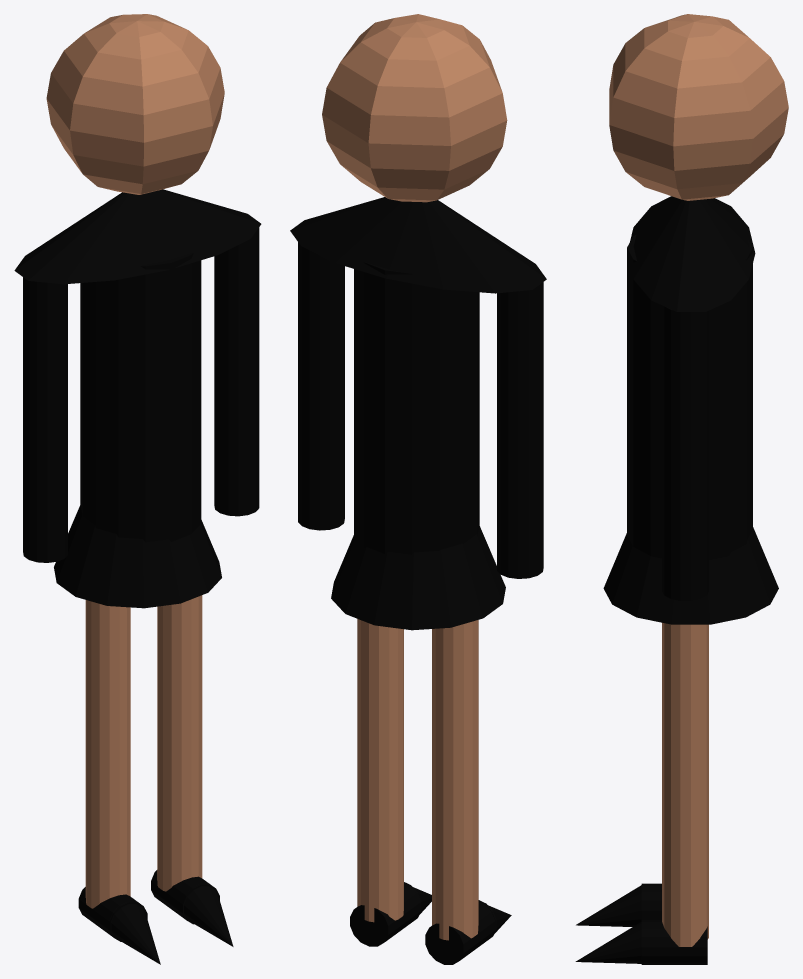
File: sister.glb
3 views of the same model, side by side, from view 1: azimuth 30°, elevation 25°; view 2: azimuth 150°, elevation 25°; view 3: azimuth 270°, elevation 25° (orthographic). The views are drawn at different scales.
Visible parts, largest first — view 1: Cylinder, Sphere, Cone, Cylinder.001, Cylinder.002, Cylinder.004, Cylinder.003, Cone.001, Cone.003, Cone.002, Cylinder.006, Cylinder.005; view 2: Cylinder, Sphere, Cone, Cylinder.001, Cylinder.002, Cylinder.004, Cylinder.003, Cone.001, Cylinder.006, Cylinder.005; view 3: Sphere, Cylinder, Cylinder.002, Cylinder.003, Cone, Cone.001, Cylinder.005, Cone.002, Cone.003, Cylinder.006.
Boxes of the visible parts, x1,y1,x2,y2 form: Cylinder: (80, 253, 201, 542); Sphere: (46, 14, 224, 194); Cone: (14, 189, 261, 284); Cylinder.001: (85, 600, 130, 908); Cylinder.002: (157, 595, 202, 891); Cylinder.004: (23, 277, 67, 562); Cylinder.003: (214, 227, 259, 516); Cone.001: (54, 505, 221, 608); Cone.003: (109, 902, 160, 964); Cone.002: (184, 884, 233, 946); Cylinder.006: (78, 887, 147, 941); Cylinder.005: (151, 870, 219, 924); Cylinder: (354, 262, 479, 554); Sphere: (322, 14, 507, 202); Cone: (290, 197, 546, 293); Cylinder.001: (432, 620, 478, 940); Cylinder.002: (357, 619, 403, 922); Cylinder.004: (497, 282, 543, 578); Cylinder.003: (298, 242, 344, 530); Cone.001: (331, 525, 505, 630); Cylinder.006: (425, 900, 496, 964); Cylinder.005: (350, 882, 421, 946); Sphere: (609, 14, 788, 200); Cylinder: (627, 234, 752, 560); Cylinder.002: (662, 622, 708, 946); Cylinder.003: (662, 305, 708, 600); Cone: (628, 196, 755, 311); Cone.001: (603, 527, 778, 624); Cylinder.005: (641, 920, 707, 964); Cone.002: (575, 922, 641, 963); Cone.003: (576, 885, 641, 926); Cylinder.006: (641, 883, 661, 919).
Size of the model in its own units: 0.8816 by 3.23 by 0.6784.
